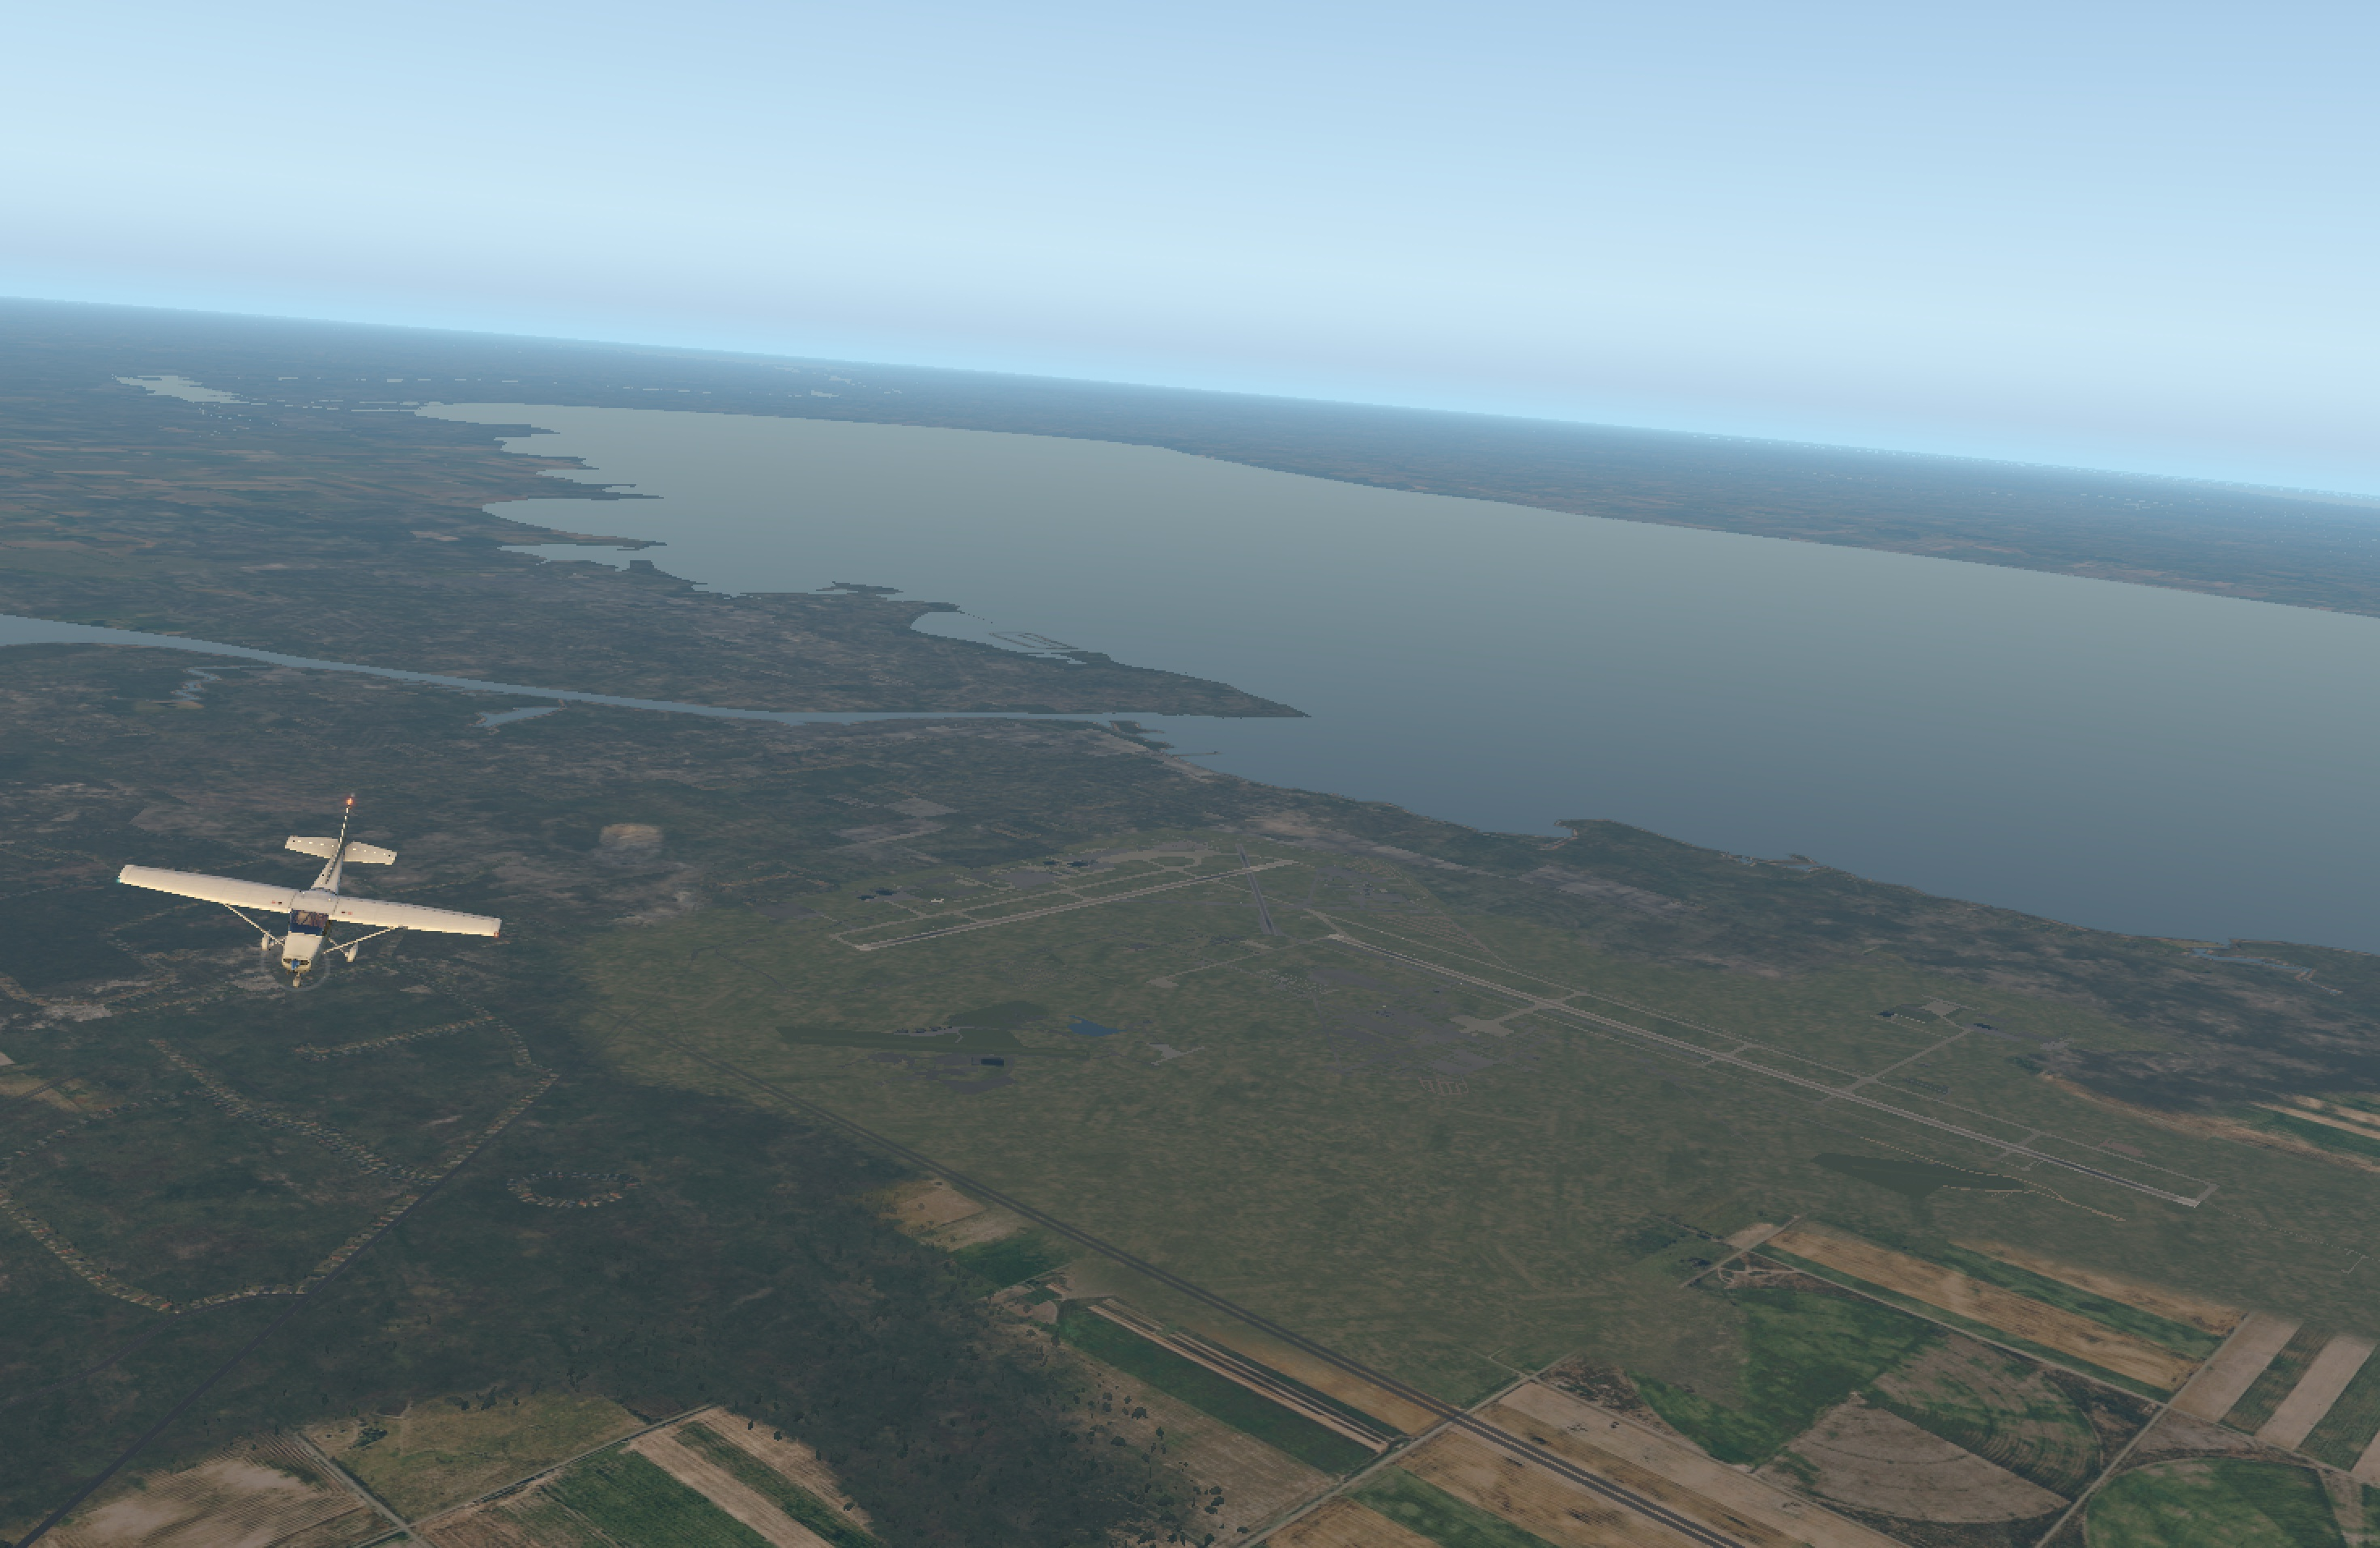aircraft: (193, 880, 428, 968)
